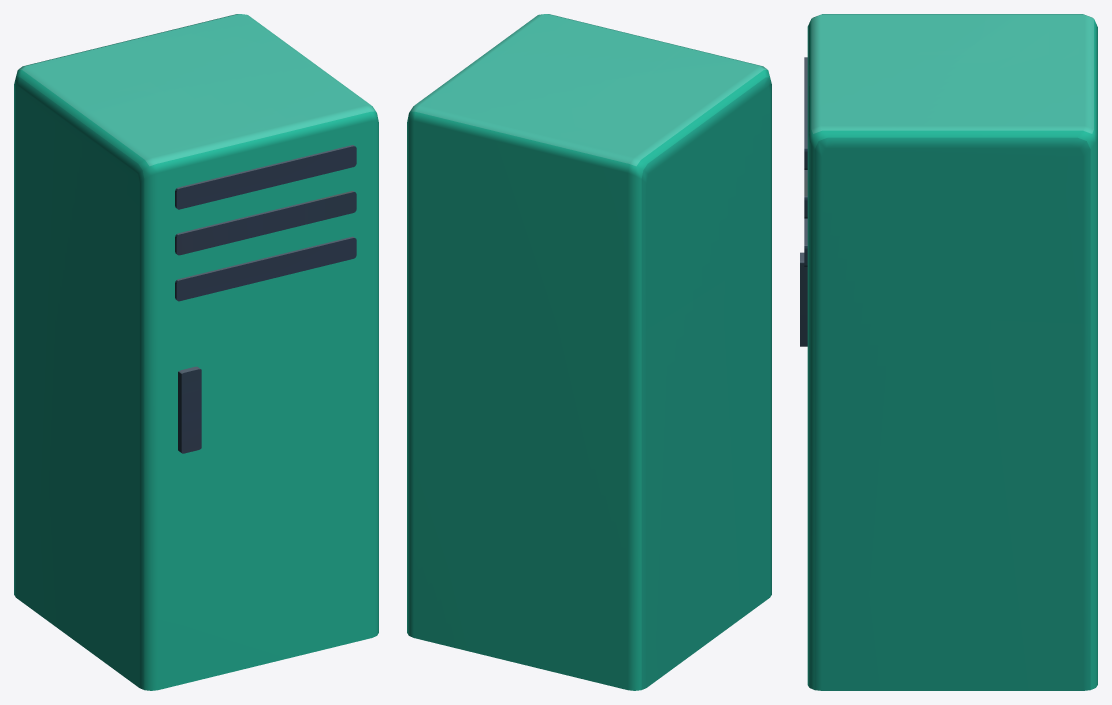
3 views of the same model, side by side, from view 1: azimuth 30°, elevation 25°; view 2: azimuth 150°, elevation 25°; view 3: azimuth 270°, elevation 25° (orthographic). The views are drawn at different scales.
Parts seen in each view (by area): view 1: Tu; view 2: Tu; view 3: Tu.
Part boxes in pixels (bbox=[...]): Tu: bbox=[14, 14, 378, 690]; Tu: bbox=[407, 14, 771, 690]; Tu: bbox=[800, 14, 1097, 690].
Bounding box in the file's own units: 234 × 498 × 240.
